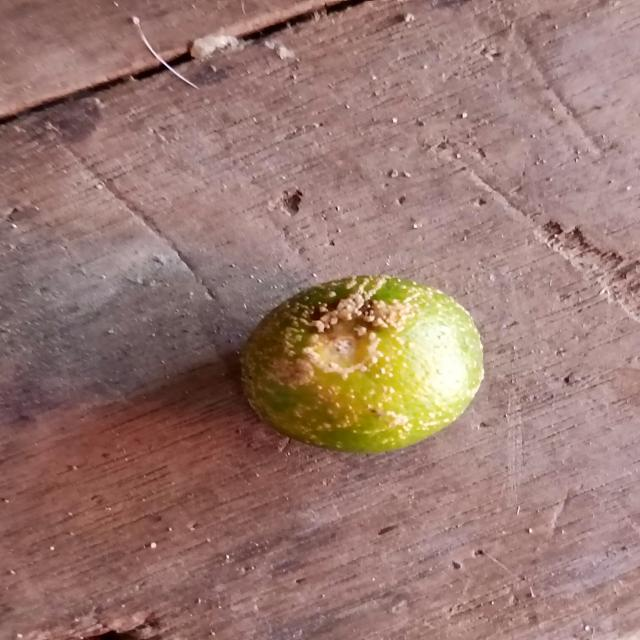scab: (223, 276, 485, 462)
